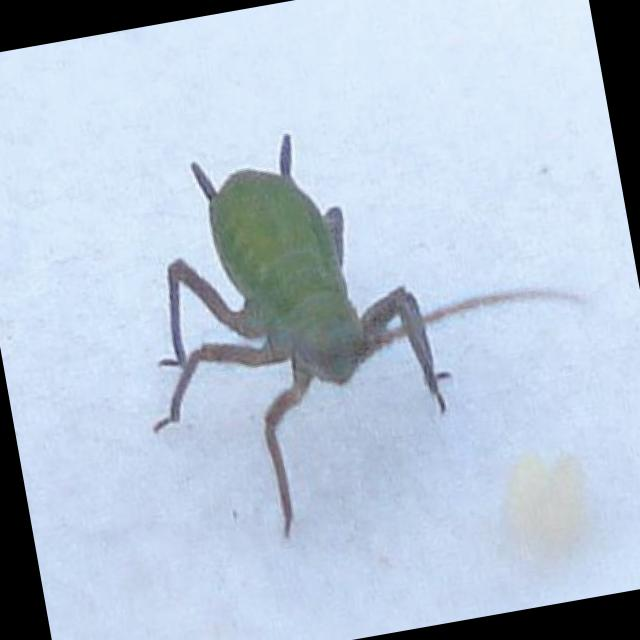aphid: (136, 116, 486, 508)
